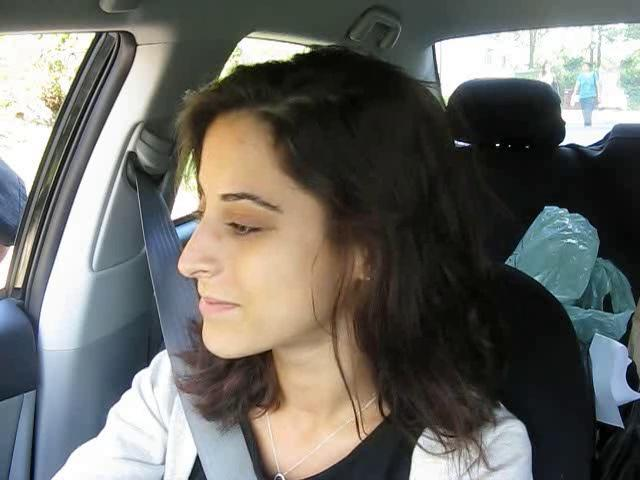close_eyeR: (213, 206, 278, 249)
no_yawn: (183, 279, 255, 331)
